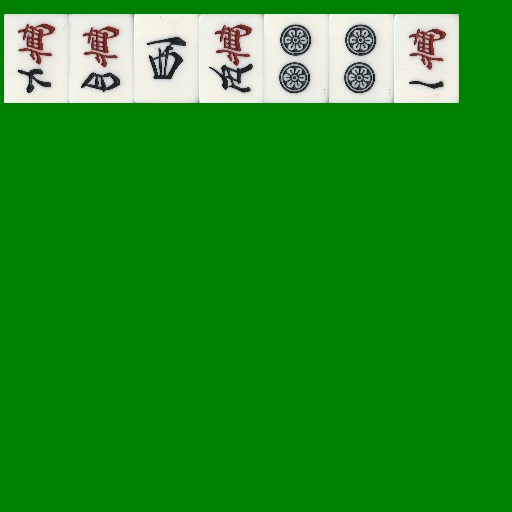1m: (394, 14, 459, 103)
2p: (264, 14, 329, 103), (329, 14, 394, 103)
4m: (69, 14, 134, 103)
5m: (199, 14, 264, 103)
7m: (4, 14, 69, 103)
west: (134, 14, 199, 103)
